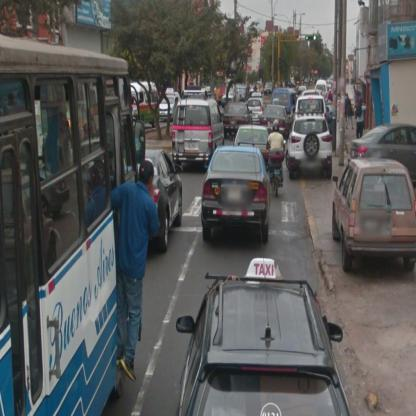Moto: (267, 120, 288, 200)
Peaton: (114, 159, 161, 382), (354, 103, 367, 139), (347, 101, 356, 130)
Pista: (102, 170, 351, 416)
Vehiculo: (1, 35, 136, 416), (177, 286, 351, 416), (332, 160, 416, 274), (203, 146, 270, 246), (143, 148, 184, 254), (351, 126, 416, 185), (173, 101, 225, 172), (288, 118, 333, 180), (234, 124, 272, 168), (131, 83, 161, 128), (224, 103, 255, 141), (260, 105, 293, 140), (294, 97, 328, 125), (272, 89, 297, 122), (161, 89, 182, 119), (248, 98, 266, 122), (316, 81, 328, 102)
